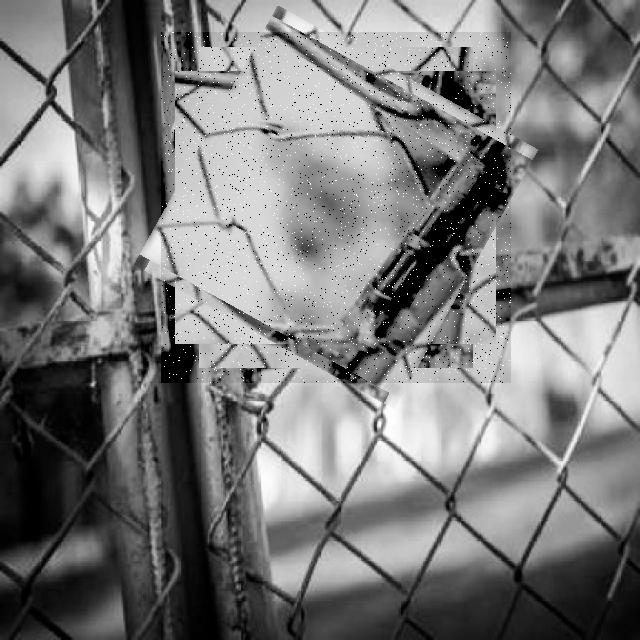anomaly-fence: (161, 32, 511, 383)
